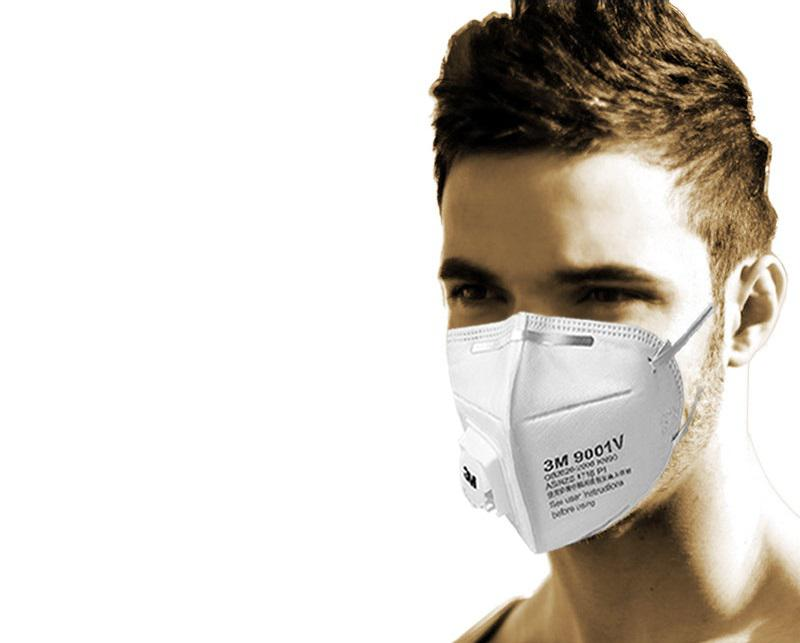OK: (433, 244, 731, 542)
